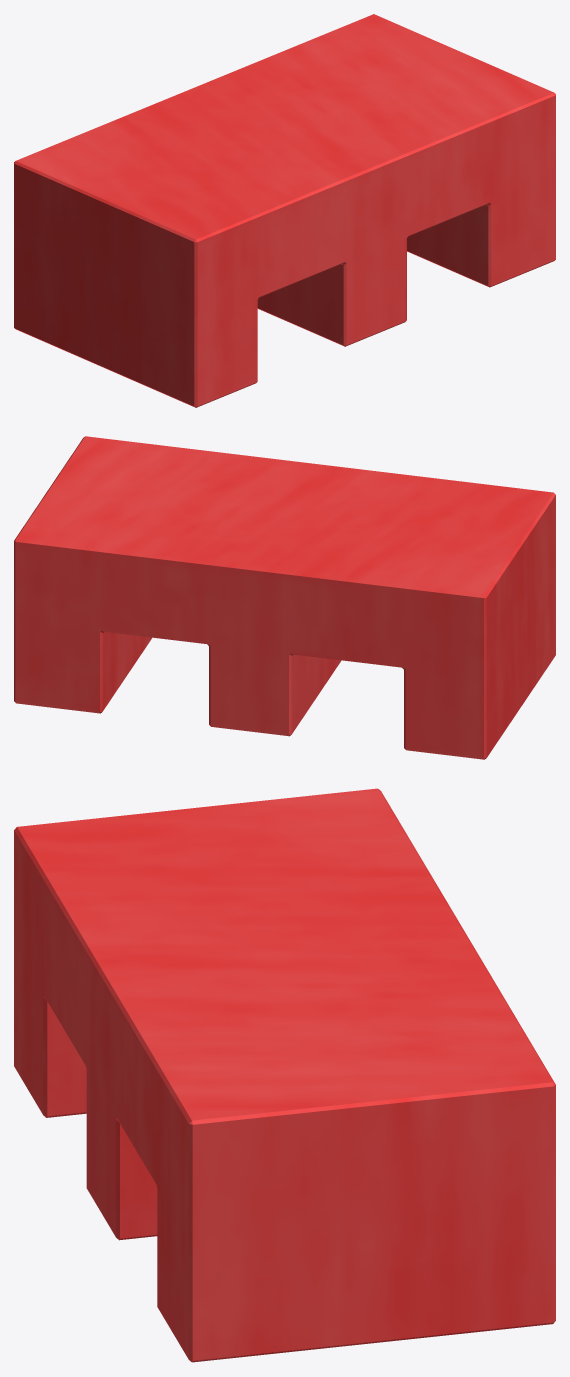
File: block1.fbx
The picture shows the model from 3 angles, top to bottom: view 1: azimuth 30°, elevation 25°; view 2: azimuth 150°, elevation 25°; view 3: azimuth 270°, elevation 25°; orthographic projection. The views are drawn at different scales.
Visible parts, largest first — view 1: block1; view 2: block1; view 3: block1.
Part boxes in pixels (x1,y1,x2,y2): block1: (14,14,555,407); block1: (14,436,555,759); block1: (14,788,555,1362).
Size of the model in its own units: 1.89 by 0.6361 by 1.29.
